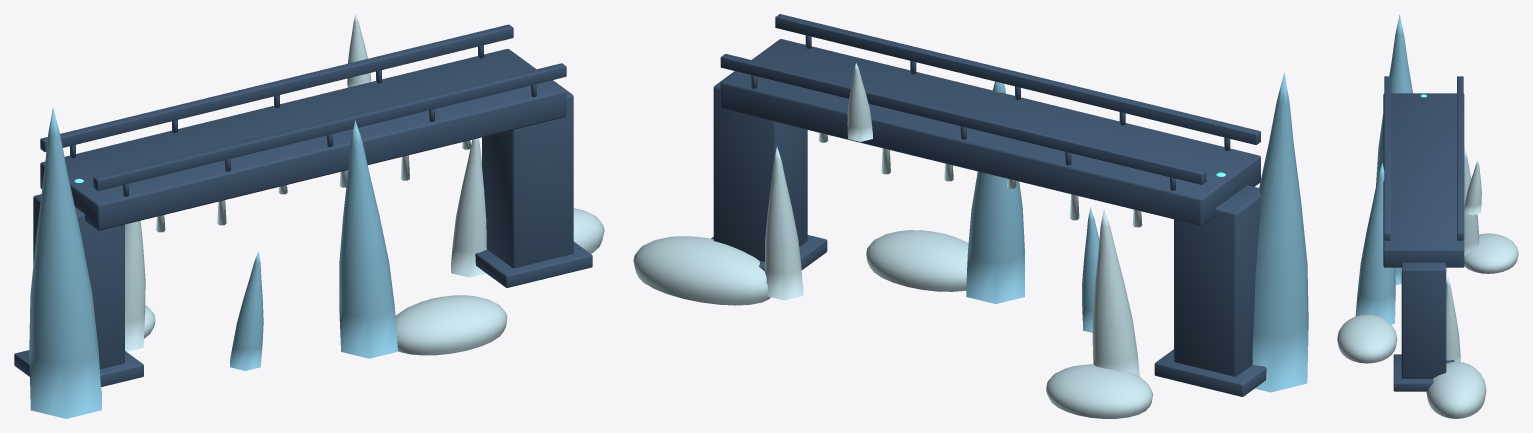
Rendered from polar-bridge.glb.
3 views of the same model, side by side, from view 1: azimuth 30°, elevation 25°; view 2: azimuth 150°, elevation 25°; view 3: azimuth 270°, elevation 25° (orthographic). The views are drawn at different scales.
Visible parts, largest first — view 1: pb_span, pb_tall_spire, pb_pillar_1, pb_crystal_1, pb_railing_-1, pb_railing_1, pb_drift_1, pb_pillar_-1, pb_crystal_2, pb_crystal_0, pb_crystal_3, pb_pillar_base_1 (+3 smaller); view 2: pb_span, pb_pillar_-1, pb_tall_spire, pb_pillar_1, pb_railing_-1, pb_railing_1, pb_drift_2, pb_crystal_1, pb_drift_1, pb_crystal_0, pb_drift_0, pb_crystal_2 (+4 smaller); view 3: pb_span, pb_pillar_1, pb_crystal_1, pb_drift_2, pb_drift_1, pb_drift_0, pb_tall_spire, pb_railing_1, pb_railing_-1, pb_crystal_2, pb_crystal_0, pb_pillar_base_1 (+1 smaller).
Boxes of the visible parts, x1,y1,x2,y2 form: pb_span: [40, 49, 566, 230]; pb_tall_spire: [29, 107, 101, 418]; pb_pillar_1: [482, 80, 573, 268]; pb_crystal_1: [339, 120, 397, 358]; pb_railing_-1: [93, 63, 566, 190]; pb_railing_1: [40, 24, 513, 152]; pb_drift_1: [395, 295, 507, 355]; pb_pillar_-1: [33, 194, 124, 369]; pb_crystal_2: [451, 138, 486, 277]; pb_crystal_0: [125, 220, 145, 351]; pb_crystal_3: [230, 252, 263, 370]; pb_pillar_base_1: [475, 241, 592, 287]; pb_span: [720, 39, 1260, 225]; pb_pillar_-1: [1174, 185, 1261, 376]; pb_tall_spire: [1252, 72, 1308, 392]; pb_pillar_1: [713, 71, 807, 261]; pb_railing_-1: [775, 14, 1260, 144]; pb_railing_1: [720, 54, 1206, 184]; pb_drift_2: [633, 236, 770, 305]; pb_crystal_1: [966, 67, 1024, 303]; pb_drift_1: [866, 230, 968, 291]; pb_crystal_0: [1092, 210, 1140, 376]; pb_drift_0: [1046, 364, 1152, 418]; pb_crystal_2: [764, 147, 803, 300]; pb_span: [1383, 93, 1464, 267]; pb_pillar_1: [1401, 262, 1446, 378]; pb_crystal_1: [1355, 163, 1395, 324]; pb_drift_2: [1426, 361, 1486, 418]; pb_drift_1: [1337, 314, 1397, 363]; pb_drift_0: [1464, 233, 1518, 273]; pb_tall_spire: [1376, 15, 1412, 185]; pb_railing_1: [1457, 76, 1463, 240]; pb_railing_-1: [1384, 76, 1390, 240]; pb_crystal_2: [1446, 277, 1460, 361]; pb_crystal_0: [1464, 147, 1479, 255]; pb_pillar_base_1: [1393, 354, 1454, 391].
Bounding box in the file's own units: 6 × 2.84 × 2.24.
